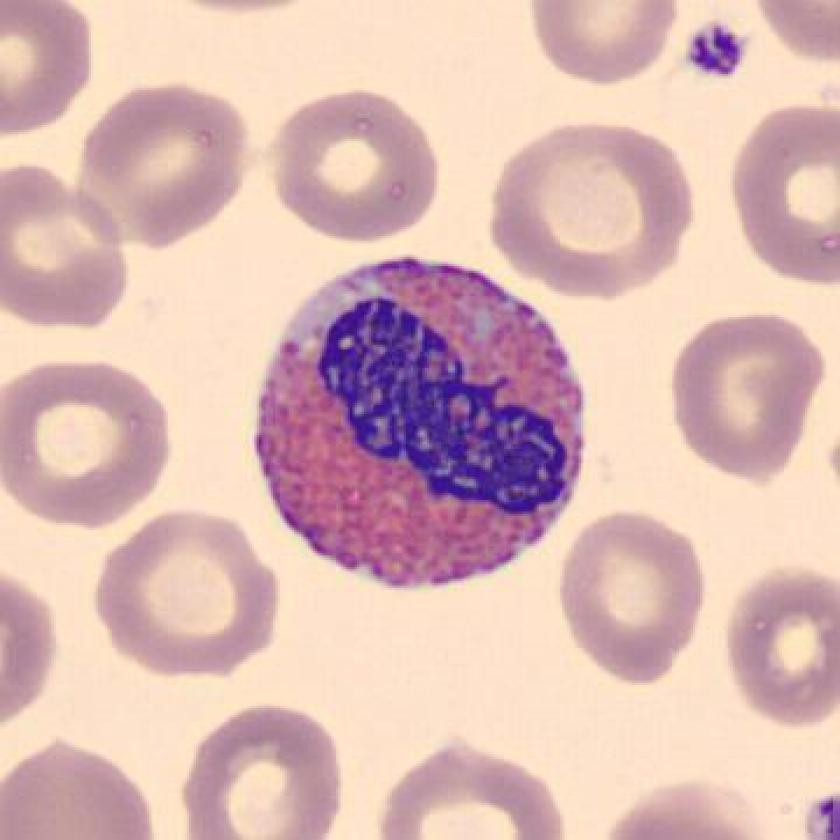eosinophil: (246, 246, 601, 598)
